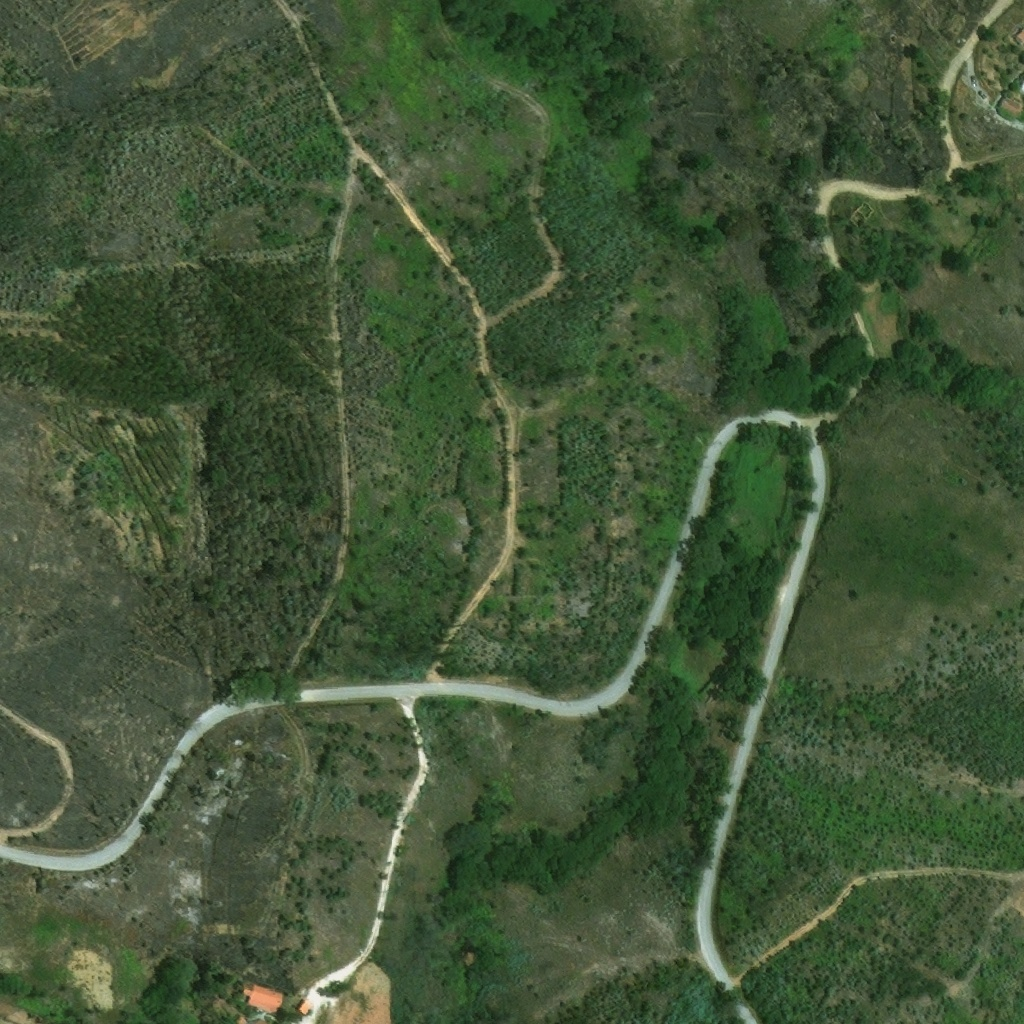0 no-damage: (242, 978, 286, 1014), (1000, 88, 1023, 117), (297, 999, 312, 1015)
